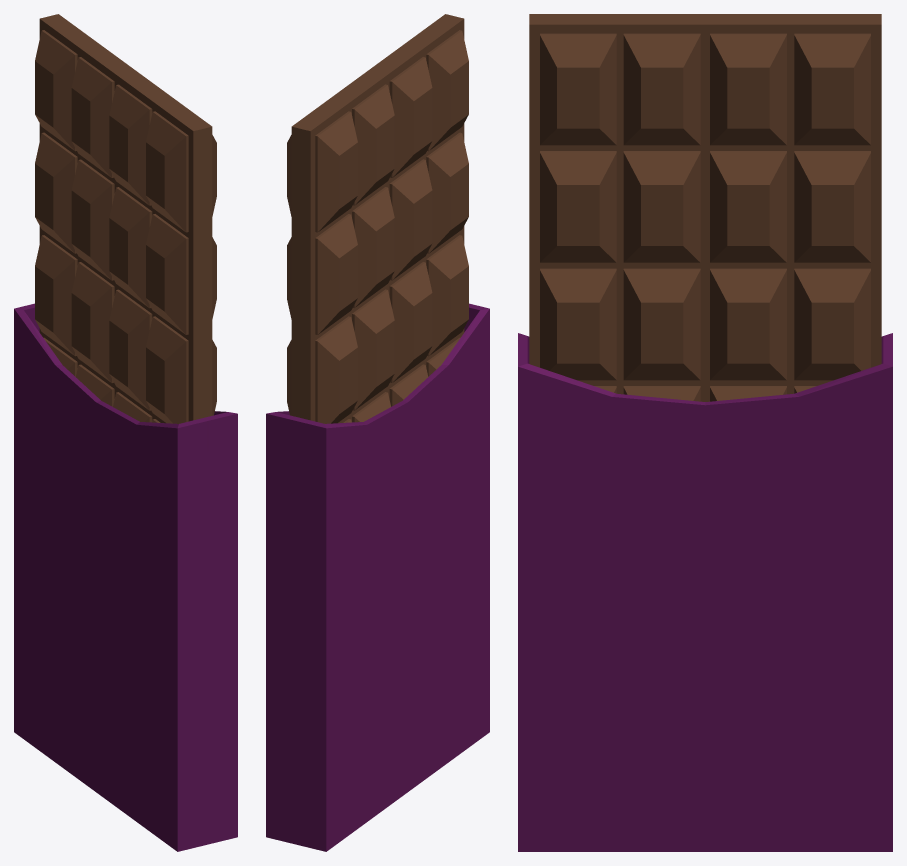
The model's file is candybar.obj.
The picture shows the model from 3 angles, left to right: view 1: azimuth 30°, elevation 25°; view 2: azimuth 150°, elevation 25°; view 3: azimuth 270°, elevation 25°; orthographic projection. The views are drawn at different scales.
Visible parts, largest first — view 1: CandyBar; view 2: CandyBar; view 3: CandyBar.
Boxes of the visible parts, bbox=[...] form: CandyBar: bbox=[14, 14, 237, 851]; CandyBar: bbox=[266, 14, 489, 851]; CandyBar: bbox=[518, 14, 892, 851].
Bounding box in the file's own units: 0.0981 × 1.11 × 0.4611.
